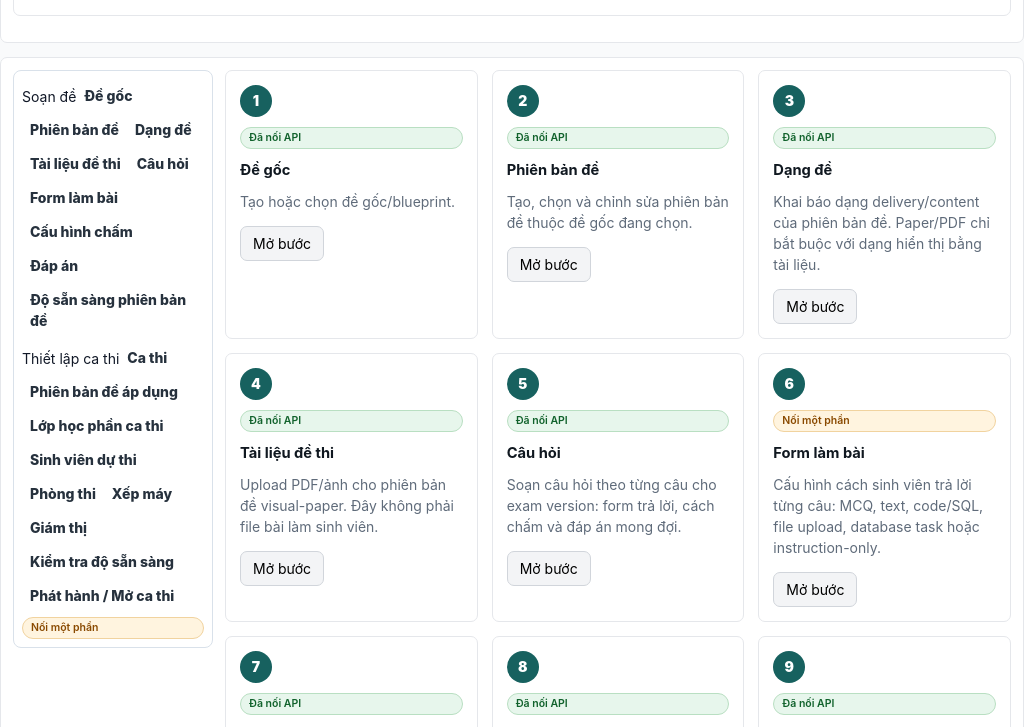
Test: ExamSetupPage workflow › editing existing sitting keeps lifecycle status read-only and does not PATCH status fields
The image size is (1024, 727).
(page scrolled)
Click the button "Ca thi": coordinates (147, 358) x1=119 y1=340 x2=175 y2=374
(page scrolled)
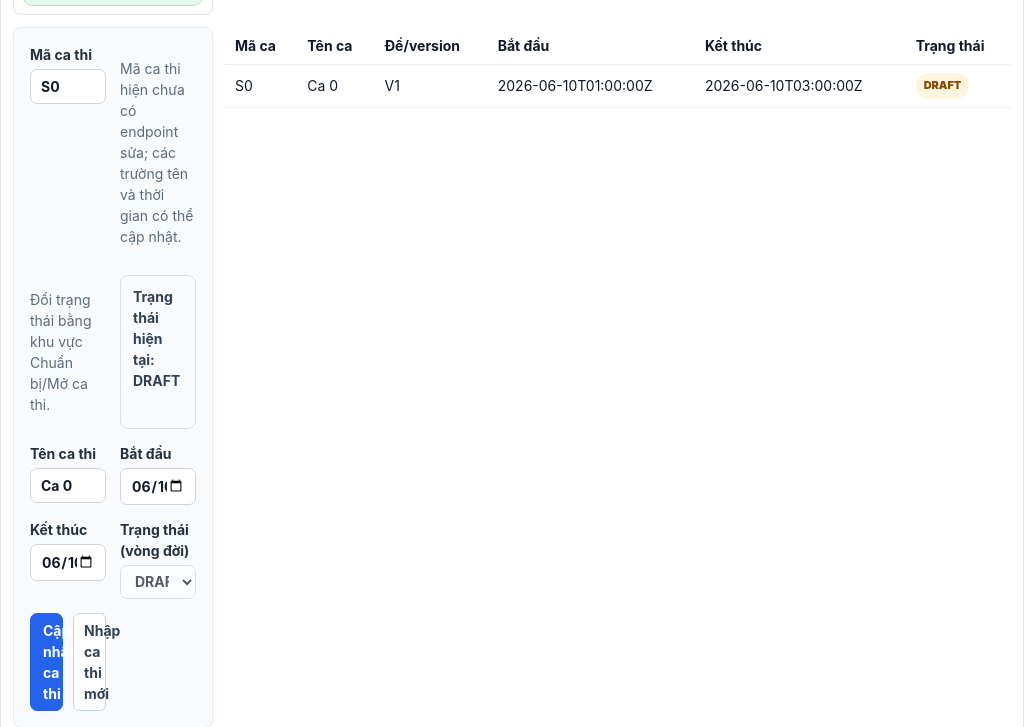
Expected: the dropdown labelled "Trạng thái (vòng đời)" is disabled, x1=120 y1=564 x2=196 y2=598
Expected: the text "Đổi trạng thái bằng khu vực Chuẩn bị/Mở ca thi." is shown, x1=30 y1=290 x2=92 y2=412
Replace the text in the field labelled "Tên ca thi" with "Ca 0 cập nhật": coordinates (68, 485) x1=30 y1=468 x2=106 y2=502
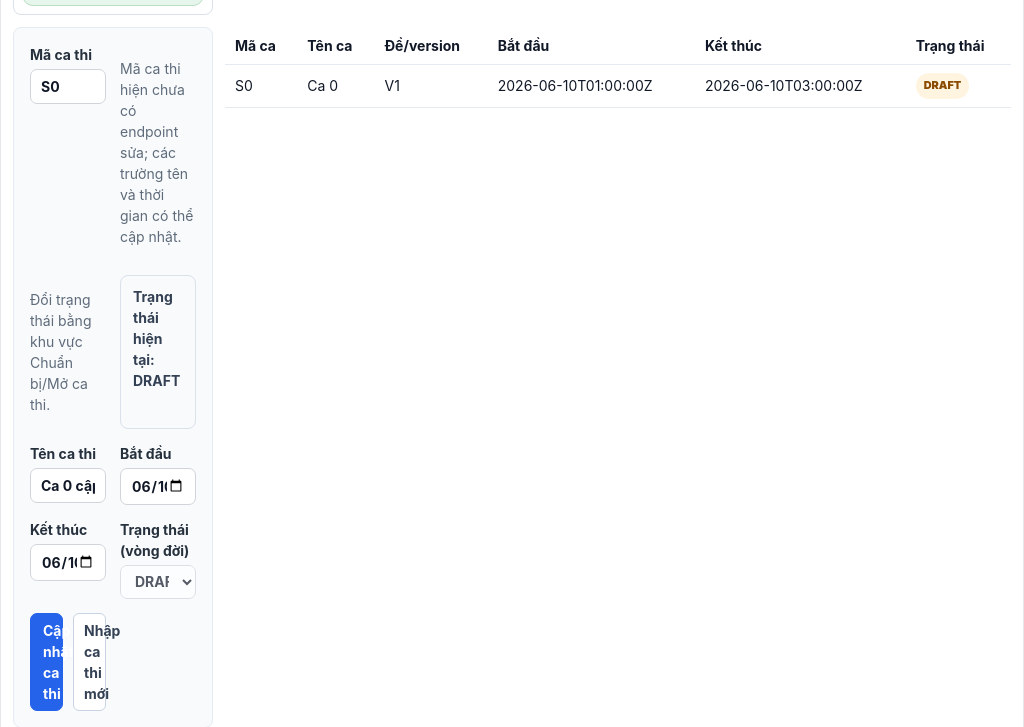
Click the button "Cập nhật ca thi": coordinates (46, 662) x1=30 y1=612 x2=63 y2=710
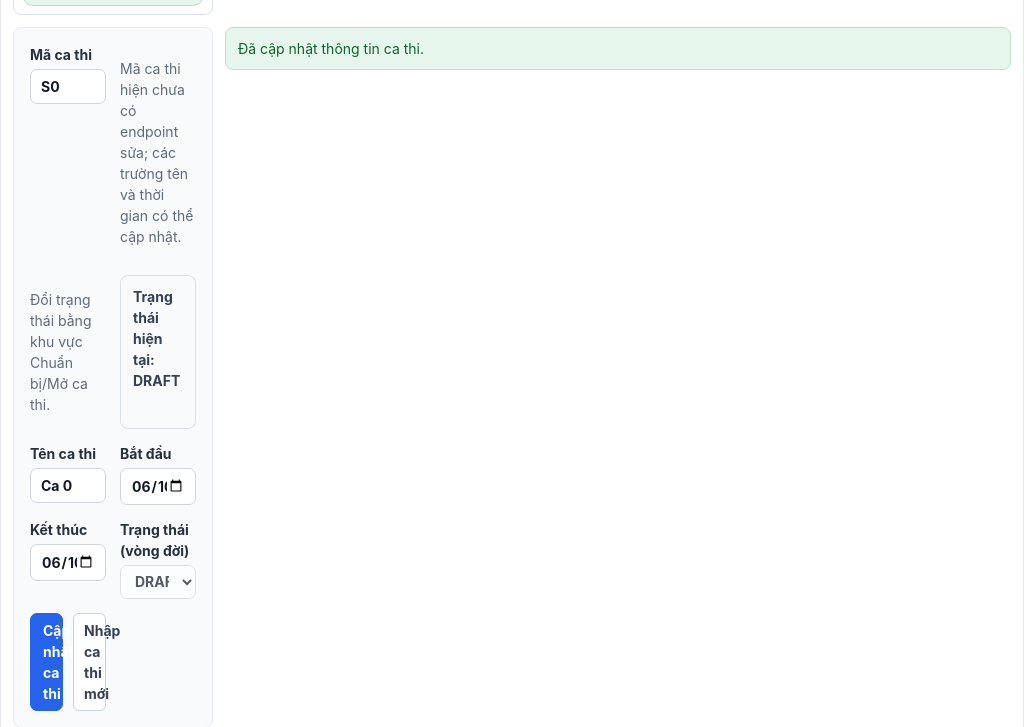
Expected: the text "Đã cập nhật thông tin ca thi." is shown, x1=225 y1=26 x2=1011 y2=70
